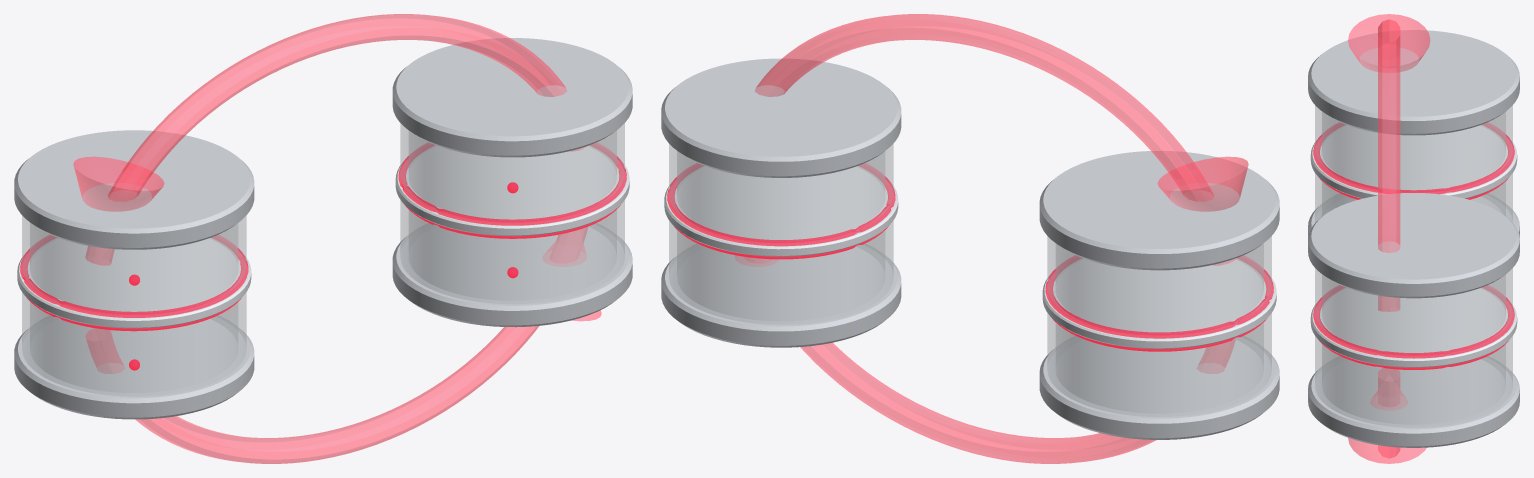
Rendered from 35-synchronization.glb.
The picture shows the model from 3 angles, left to right: view 1: azimuth 30°, elevation 25°; view 2: azimuth 150°, elevation 25°; view 3: azimuth 270°, elevation 25°; orthographic projection. The views are drawn at different scales.
Parts seen in each view (by area): view 1: BC satin silver metal, BC clear optical glass, BC polished silver metal, BC ruby optical glass, BC neon red glass edge; view 2: BC satin silver metal, BC clear optical glass, BC polished silver metal, BC ruby optical glass, BC neon red glass edge; view 3: BC satin silver metal, BC clear optical glass, BC polished silver metal, BC ruby optical glass, BC neon red glass edge.
Boxes of the visible parts, x1,y1,x2,y2 form: BC satin silver metal: (14, 38, 632, 419); BC clear optical glass: (22, 123, 624, 396); BC polished silver metal: (17, 145, 629, 328); BC ruby optical glass: (73, 14, 601, 463); BC neon red glass edge: (20, 142, 626, 370); BC satin silver metal: (661, 58, 1279, 439); BC clear optical glass: (669, 144, 1271, 416); BC polished silver metal: (664, 166, 1276, 348); BC ruby optical glass: (735, 14, 1248, 463); BC neon red glass edge: (667, 163, 1273, 351); BC satin silver metal: (1308, 30, 1519, 447); BC clear optical glass: (1315, 105, 1512, 427); BC polished silver metal: (1310, 125, 1517, 367); BC ruby optical glass: (1348, 14, 1430, 463); BC neon red glass edge: (1313, 122, 1514, 369).
Bounding box in the file's own units: 2.17 × 1.53 × 0.77.
